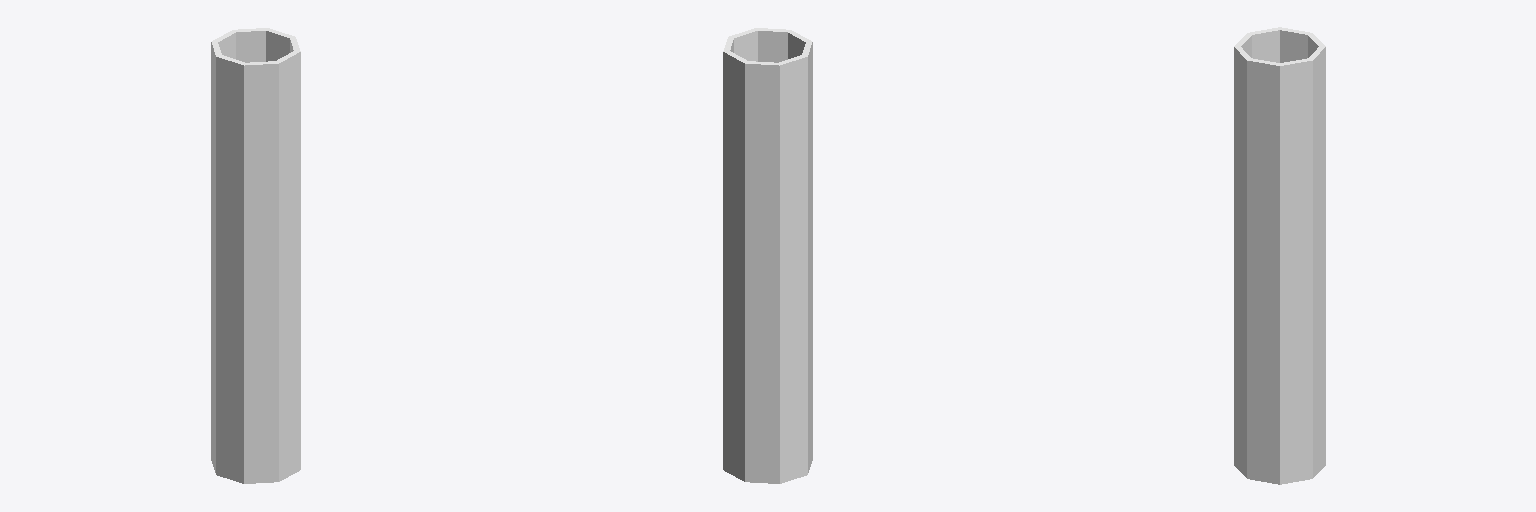
The model's file is scrapmetal1.obj.
3 views of the same model, side by side, from view 1: azimuth 30°, elevation 25°; view 2: azimuth 150°, elevation 25°; view 3: azimuth 270°, elevation 25° (orthographic).
Visible parts, largest first — view 1: scrapmetal1; view 2: scrapmetal1; view 3: scrapmetal1.
Part boxes in pixels (left/top/right/bottom): scrapmetal1: left=211, top=28, right=300, bottom=483; scrapmetal1: left=723, top=28, right=812, bottom=483; scrapmetal1: left=1234, top=27, right=1325, bottom=484.
Size of the model in its own units: 0.4 by 2 by 0.4.